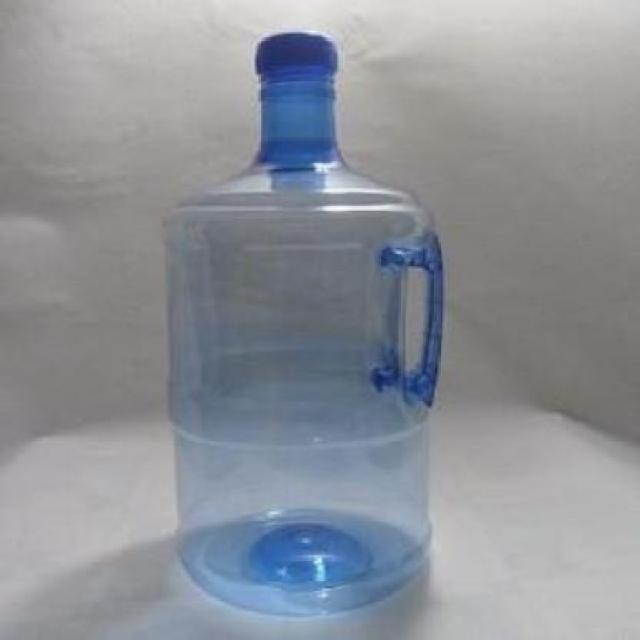coolerbottle: (158, 20, 447, 625)
